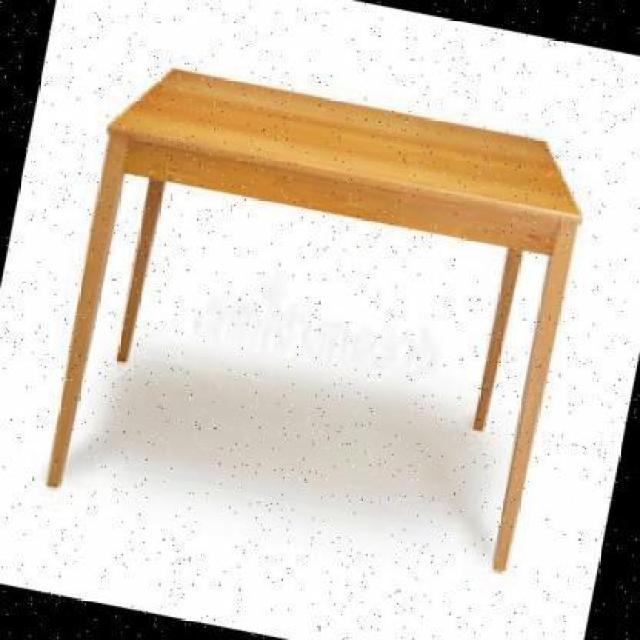tables: (45, 64, 583, 570)
